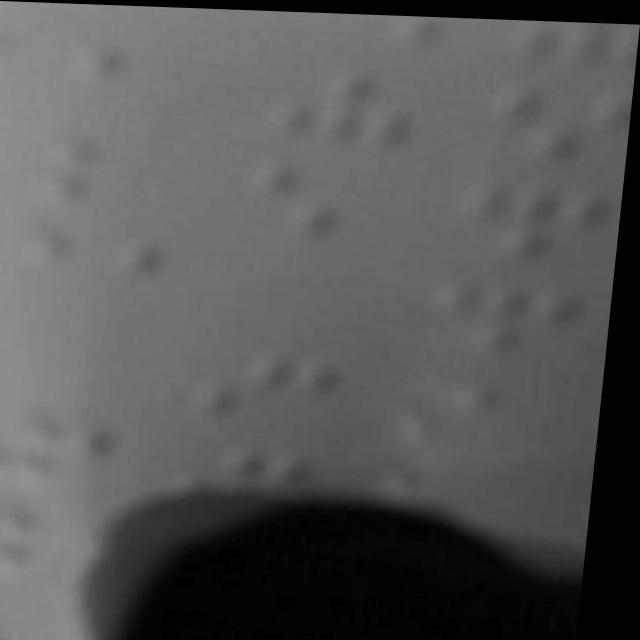braiile: (399, 366, 580, 453), (442, 179, 619, 265), (416, 267, 585, 356), (472, 78, 635, 164), (26, 225, 175, 314), (240, 160, 397, 242), (266, 66, 420, 145), (200, 346, 358, 422), (36, 125, 177, 206)
